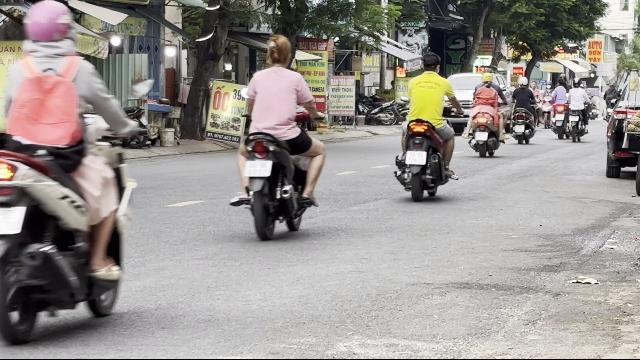helmet: (18, 0, 78, 54)
licenseplate: (244, 160, 272, 176), (406, 150, 426, 166)
motorcyclist: (1, 1, 141, 344), (228, 36, 328, 238), (392, 52, 460, 200)
nohelmet: (266, 35, 294, 68), (420, 54, 442, 74)
